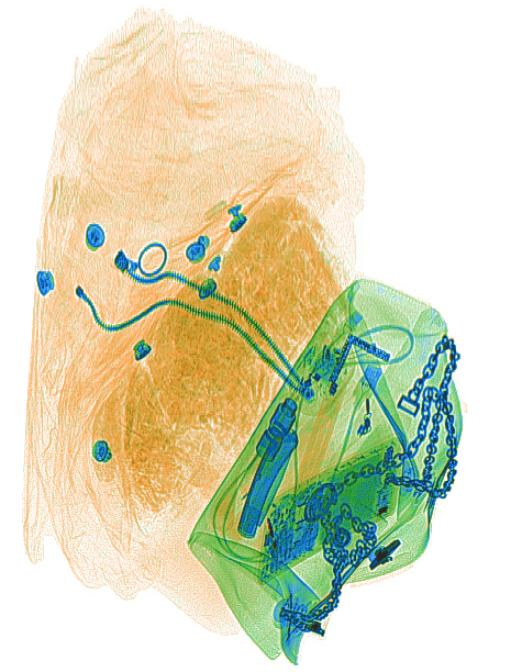knife: (236, 428, 299, 538)
